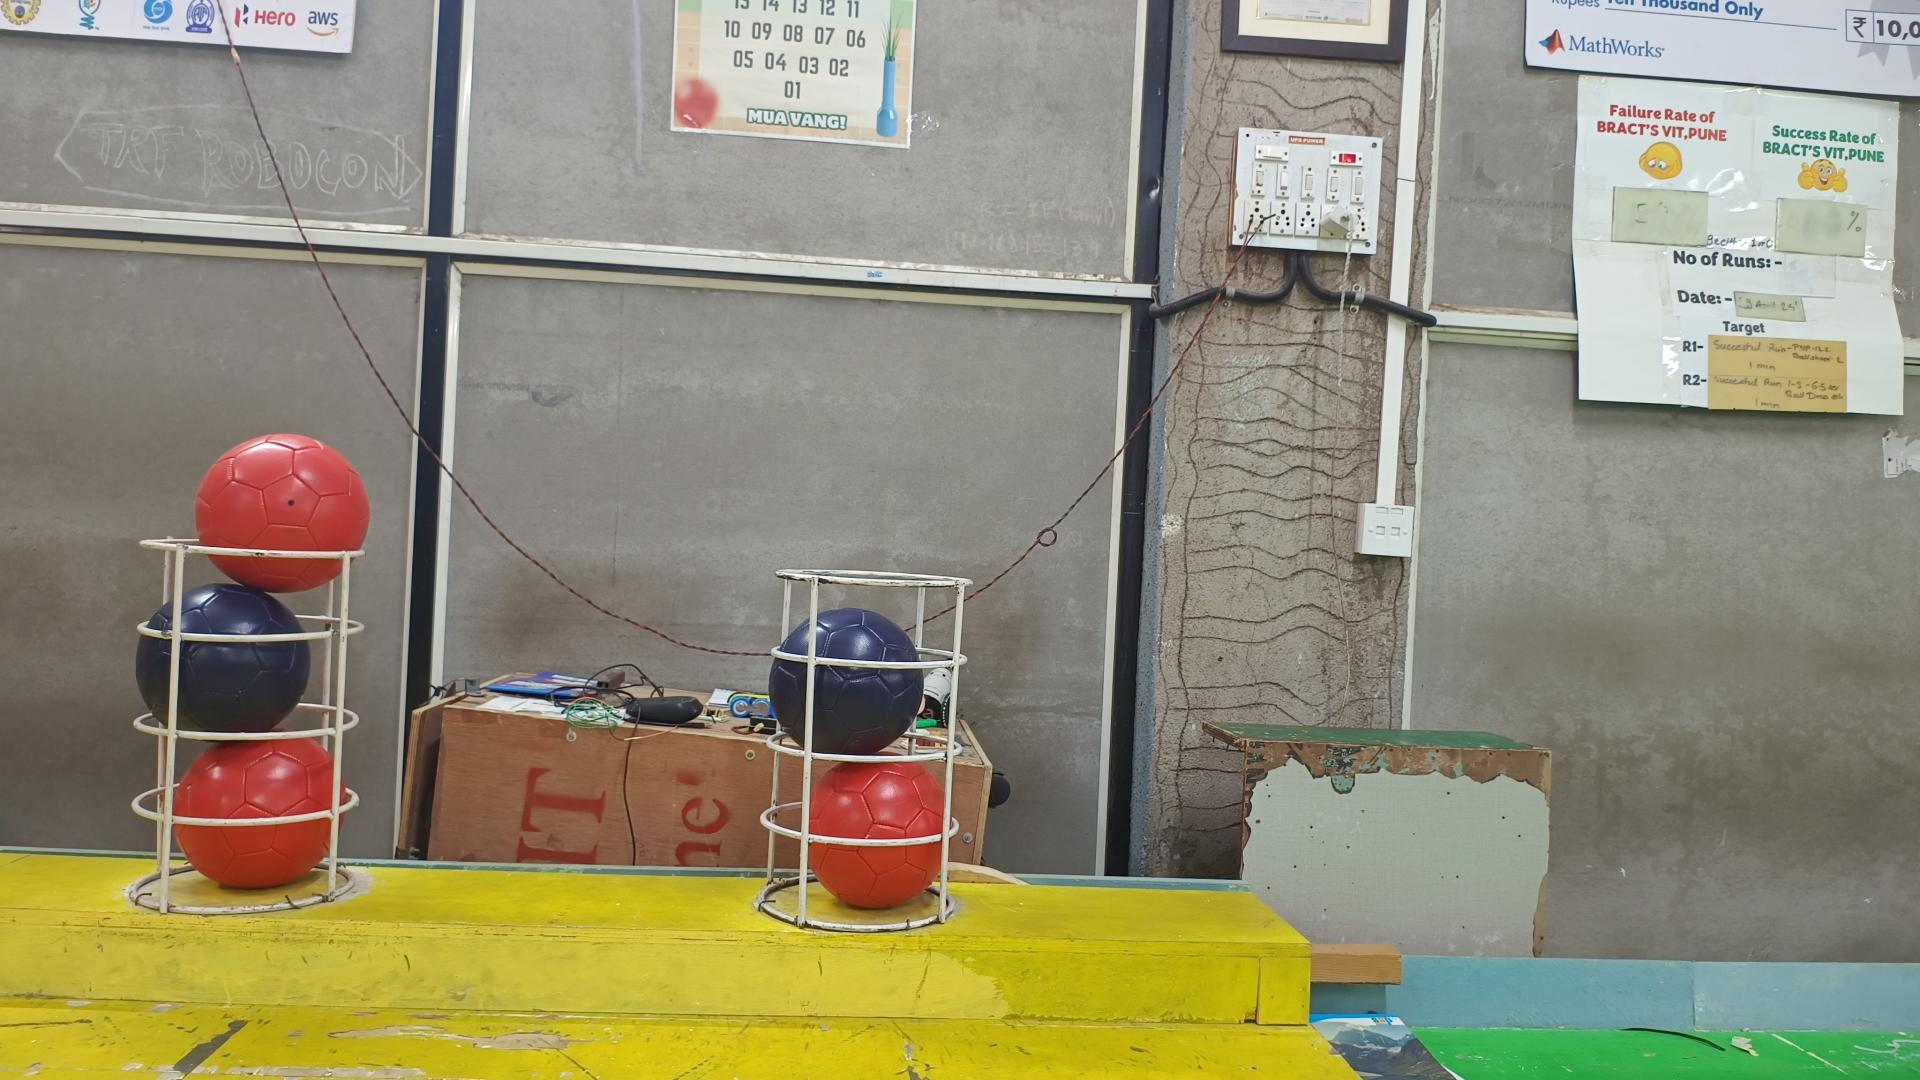dhoka: (135, 582, 311, 735), (769, 608, 926, 754)
laale: (195, 435, 372, 592), (173, 738, 348, 889), (806, 761, 956, 907)
